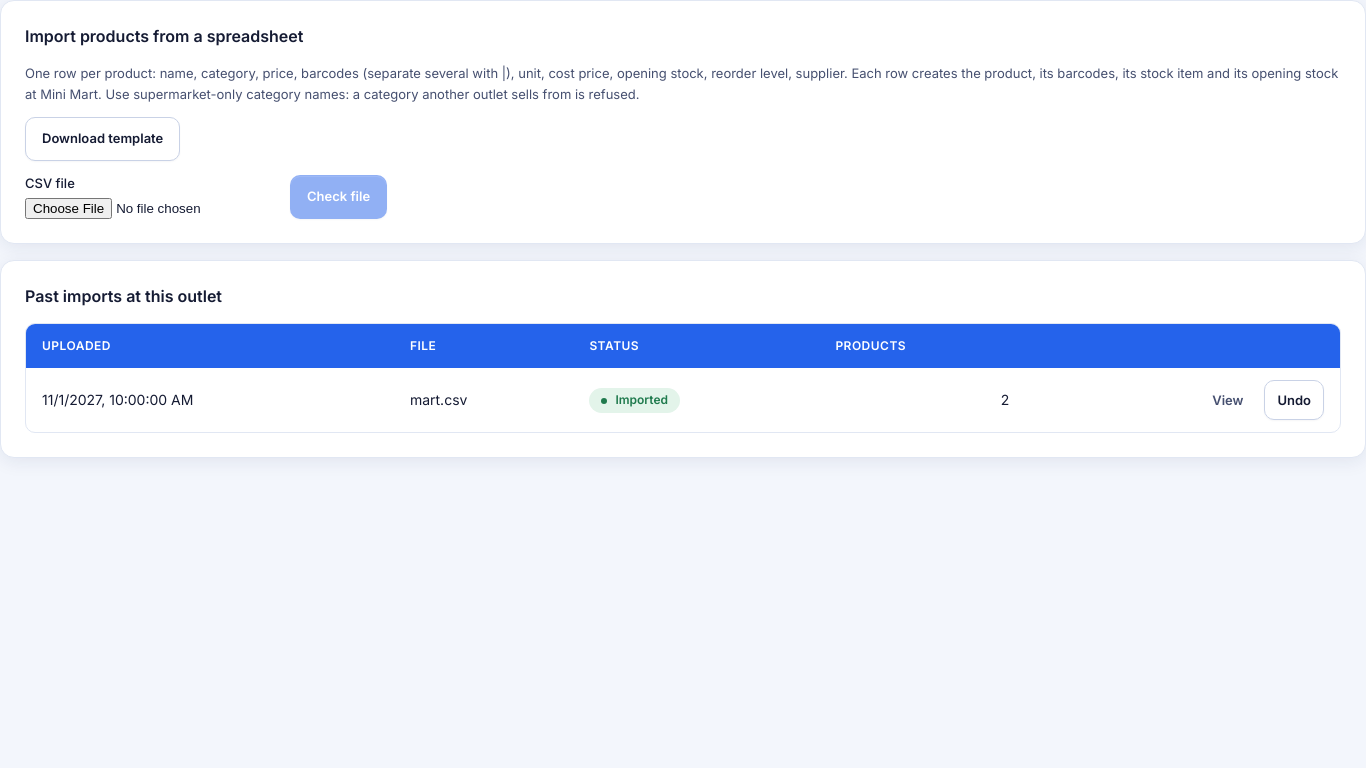
Test: <ProductsImportPanel> › undoes a past import only with a reason, and lists the products it kept
Click the button "Undo": (1294, 400) [1264,380,1324,420]
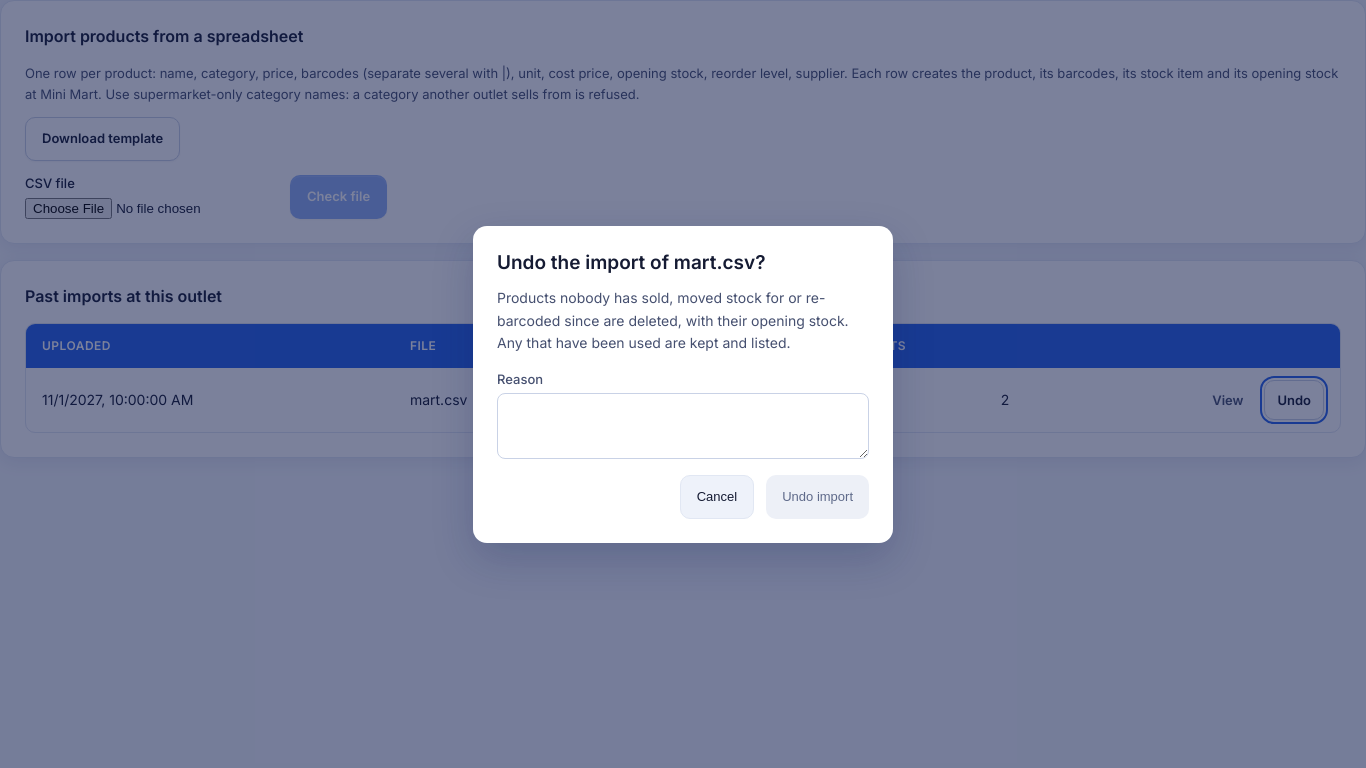
expect the button "Undo import" is disabled: met, box [766,474,869,518]
In the text box: (683, 426) [497,392,869,458], type "Wrong price list"
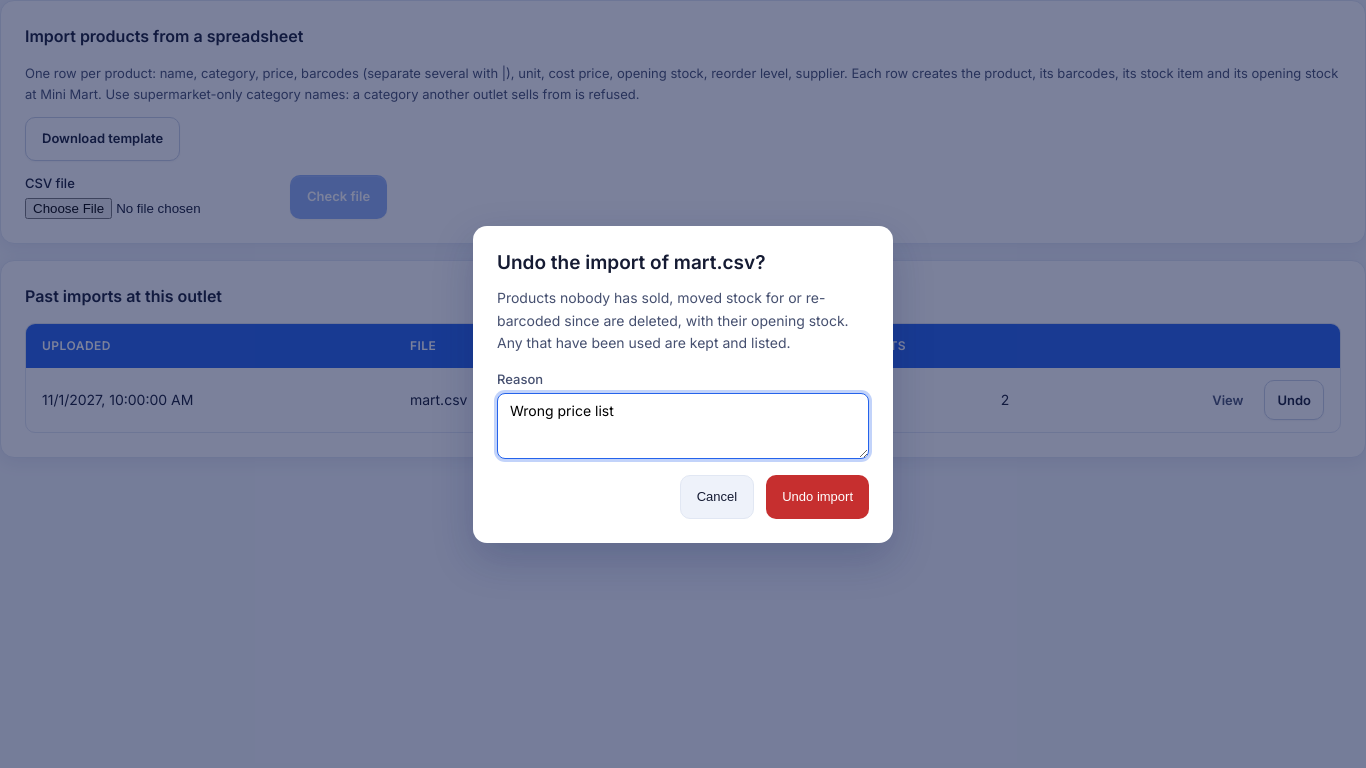
Click the button "Undo import": (818, 496) [766,474,869,518]
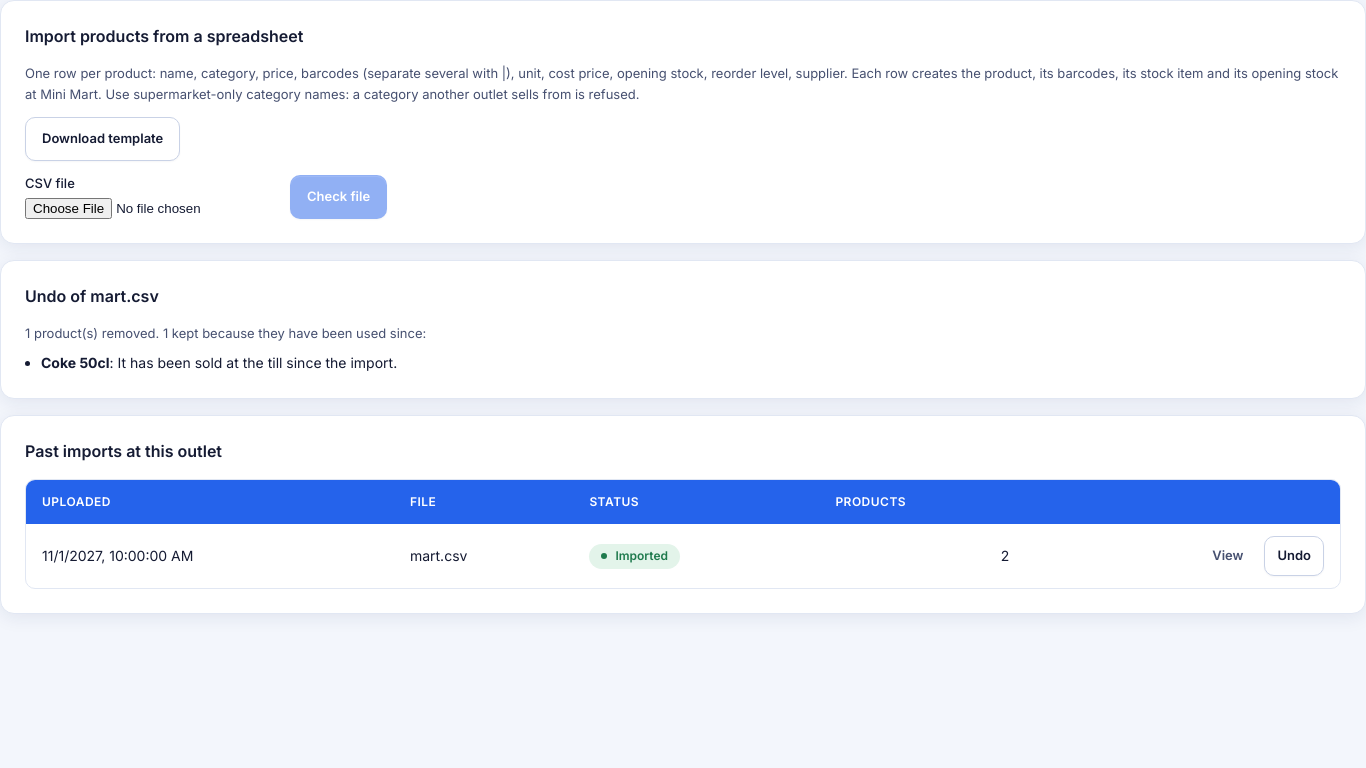
expect the list named "Kept after undo" shows "Coke 50cl": met, box [41,354,110,371]
expect the list named "Kept after undo" shows "sold at the till": met, box [118,354,397,371]
